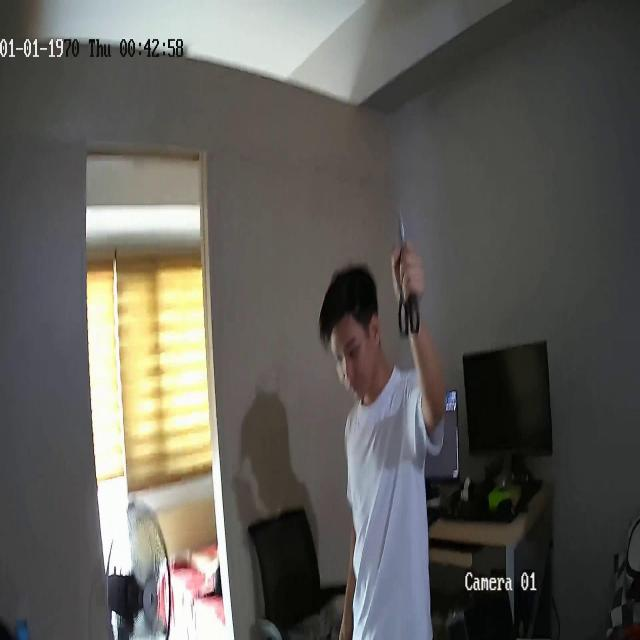scissor: (397, 202, 421, 338)
